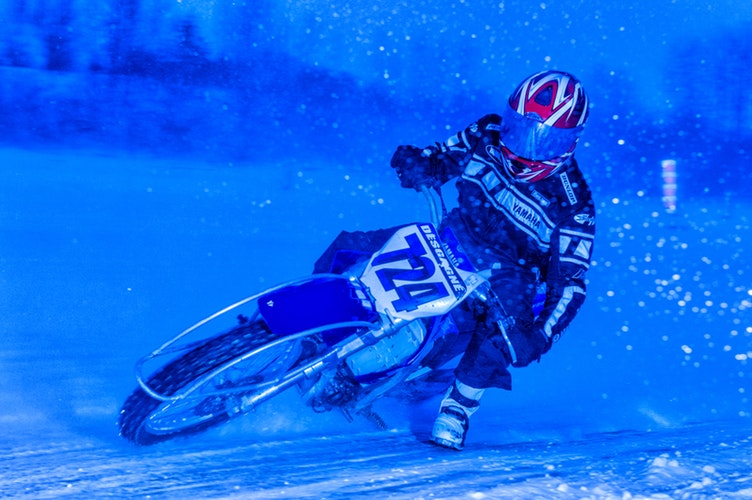helmet: (493, 63, 591, 181)
